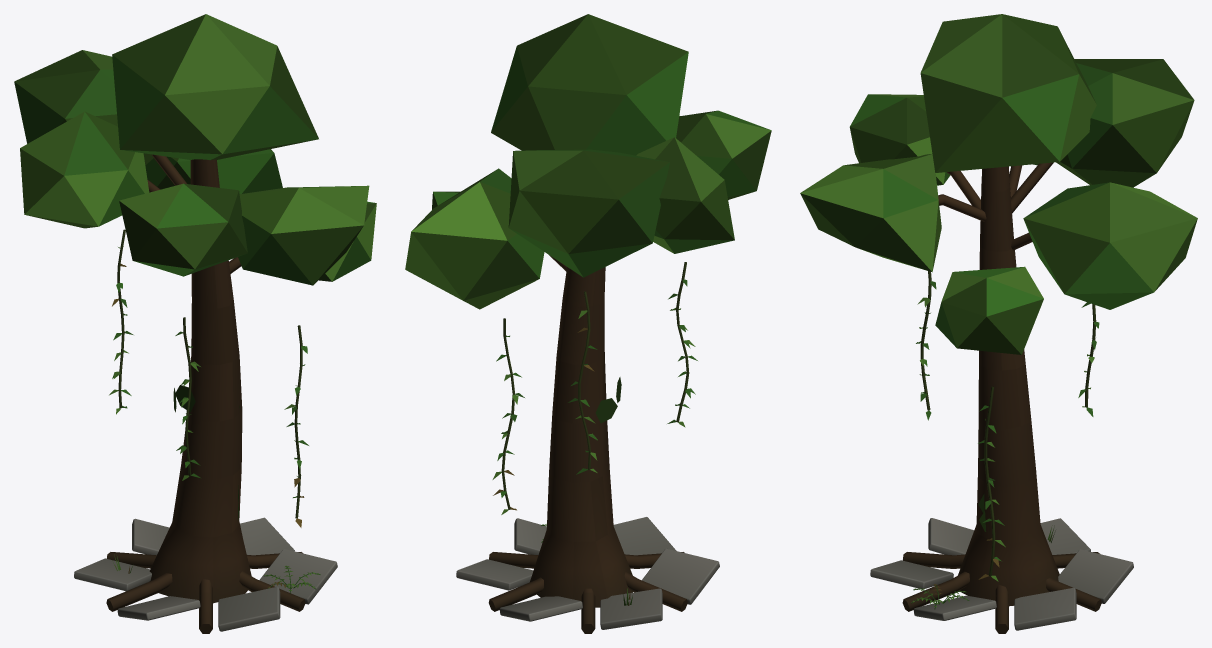
The model's file is overgrown_tree.glb.
The picture shows the model from 3 angles, left to right: view 1: azimuth 30°, elevation 25°; view 2: azimuth 150°, elevation 25°; view 3: azimuth 270°, elevation 25°; orthographic projection.
Visible parts, largest first — view 1: Mesh; view 2: Mesh; view 3: Mesh.
Boxes of the visible parts, x1,y1,x2,y2 form: Mesh: [14, 14, 376, 633]; Mesh: [405, 14, 771, 633]; Mesh: [800, 14, 1197, 633].
Size of the model in its own units: 5.45 by 9.13 by 5.74.
